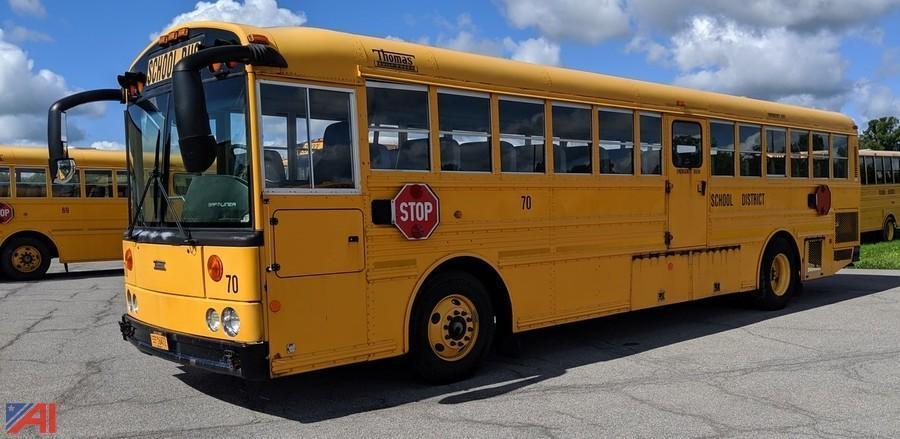Bus: (78, 10, 872, 386)
